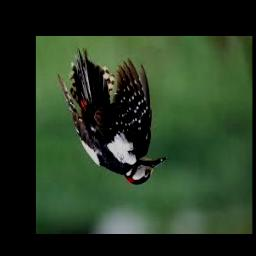Woodpecker: (58, 47, 167, 185)
